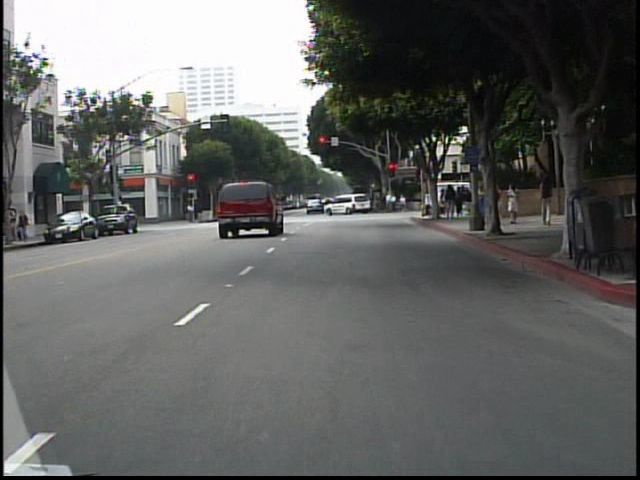person: (532, 169, 557, 230), (503, 182, 520, 228), (487, 181, 503, 221), (419, 188, 433, 220)
